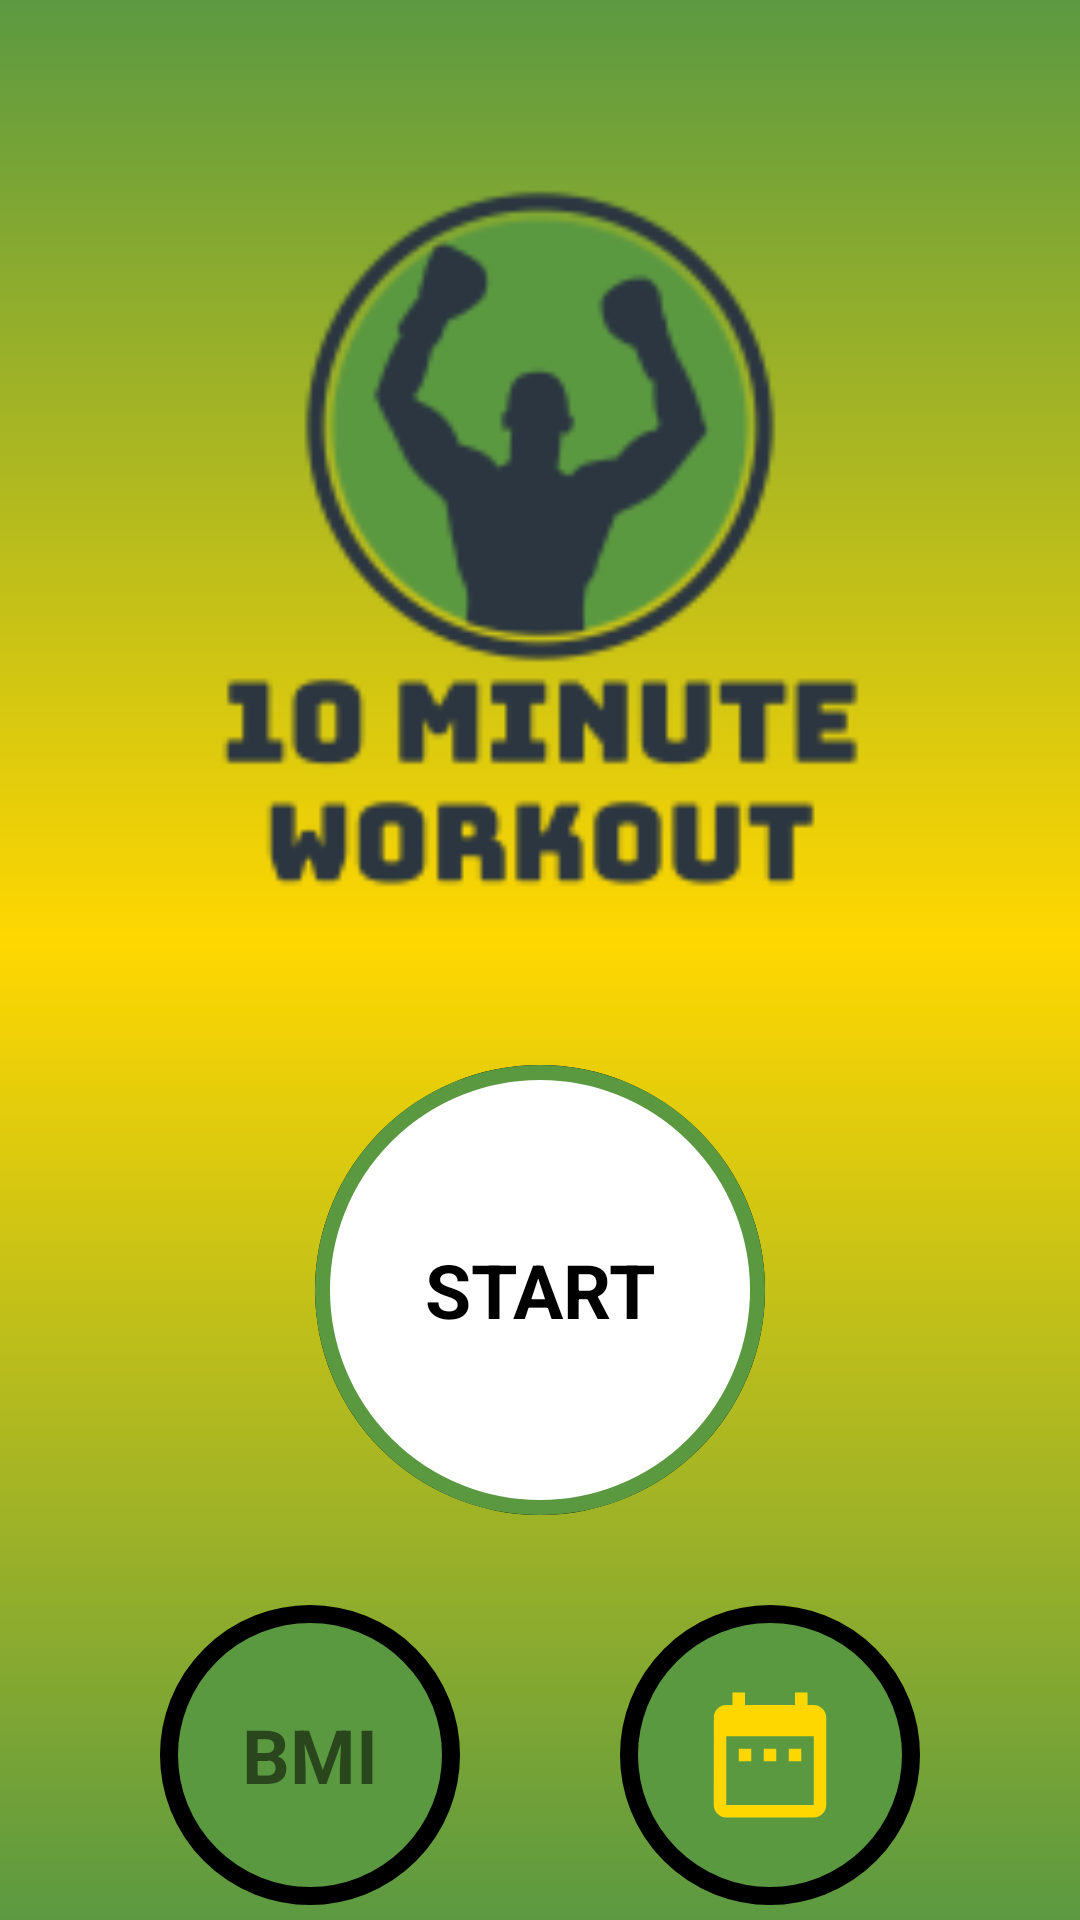

Screen size 1080px×1920px. Icon name, then its center in pixels as [x,y]:
history: [770,1755]
